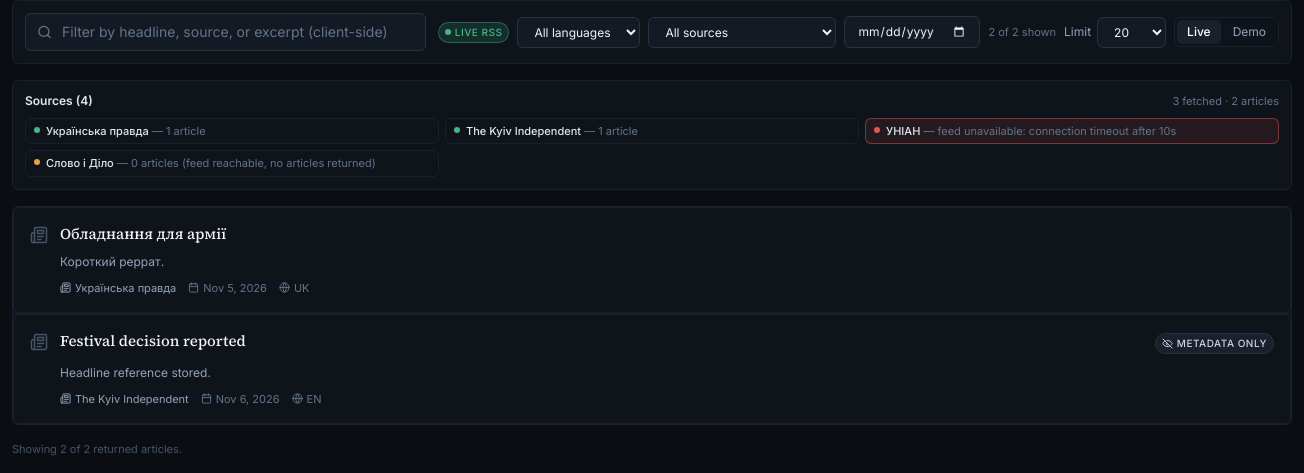
Test: NewsPage — Slice B source behavior › 2. the source filter shows only the selected source
Expected: the heading "Обладнання для армії" is shown, x1=60 y1=224 x2=226 y2=244
Select "The Kyiv Independent (1)" in the dropdown named "Filter by source". click: [742, 32]
box: x1=648 y1=16 x2=836 y2=48
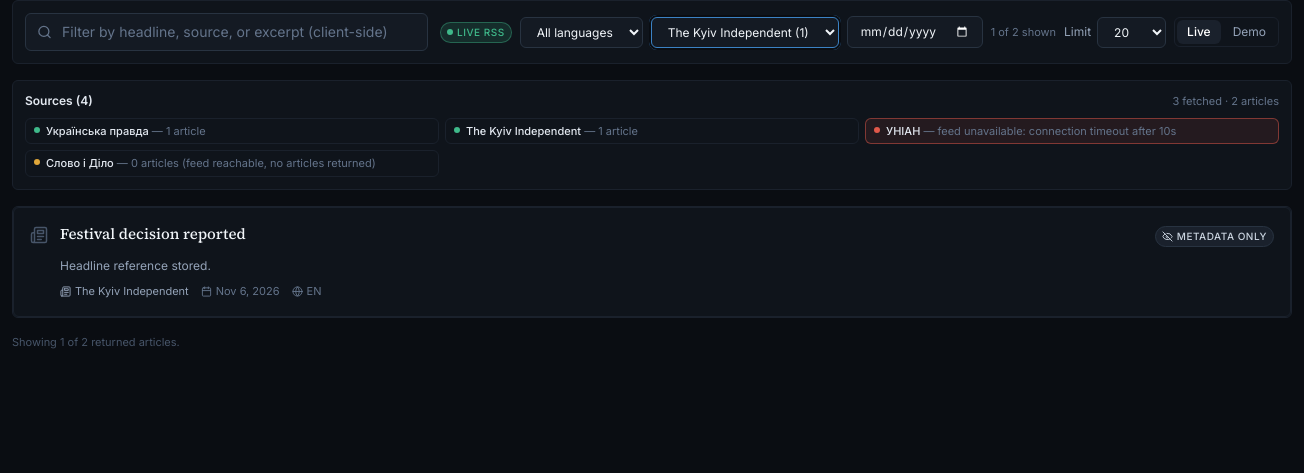
Expected: the heading "Festival decision reported" is shown, x1=60 y1=224 x2=246 y2=244
Expected: the button "Обладнання для армії" is gone
Expected: the text "1 of 2 shown" is shown, x1=991 y1=24 x2=1056 y2=40
